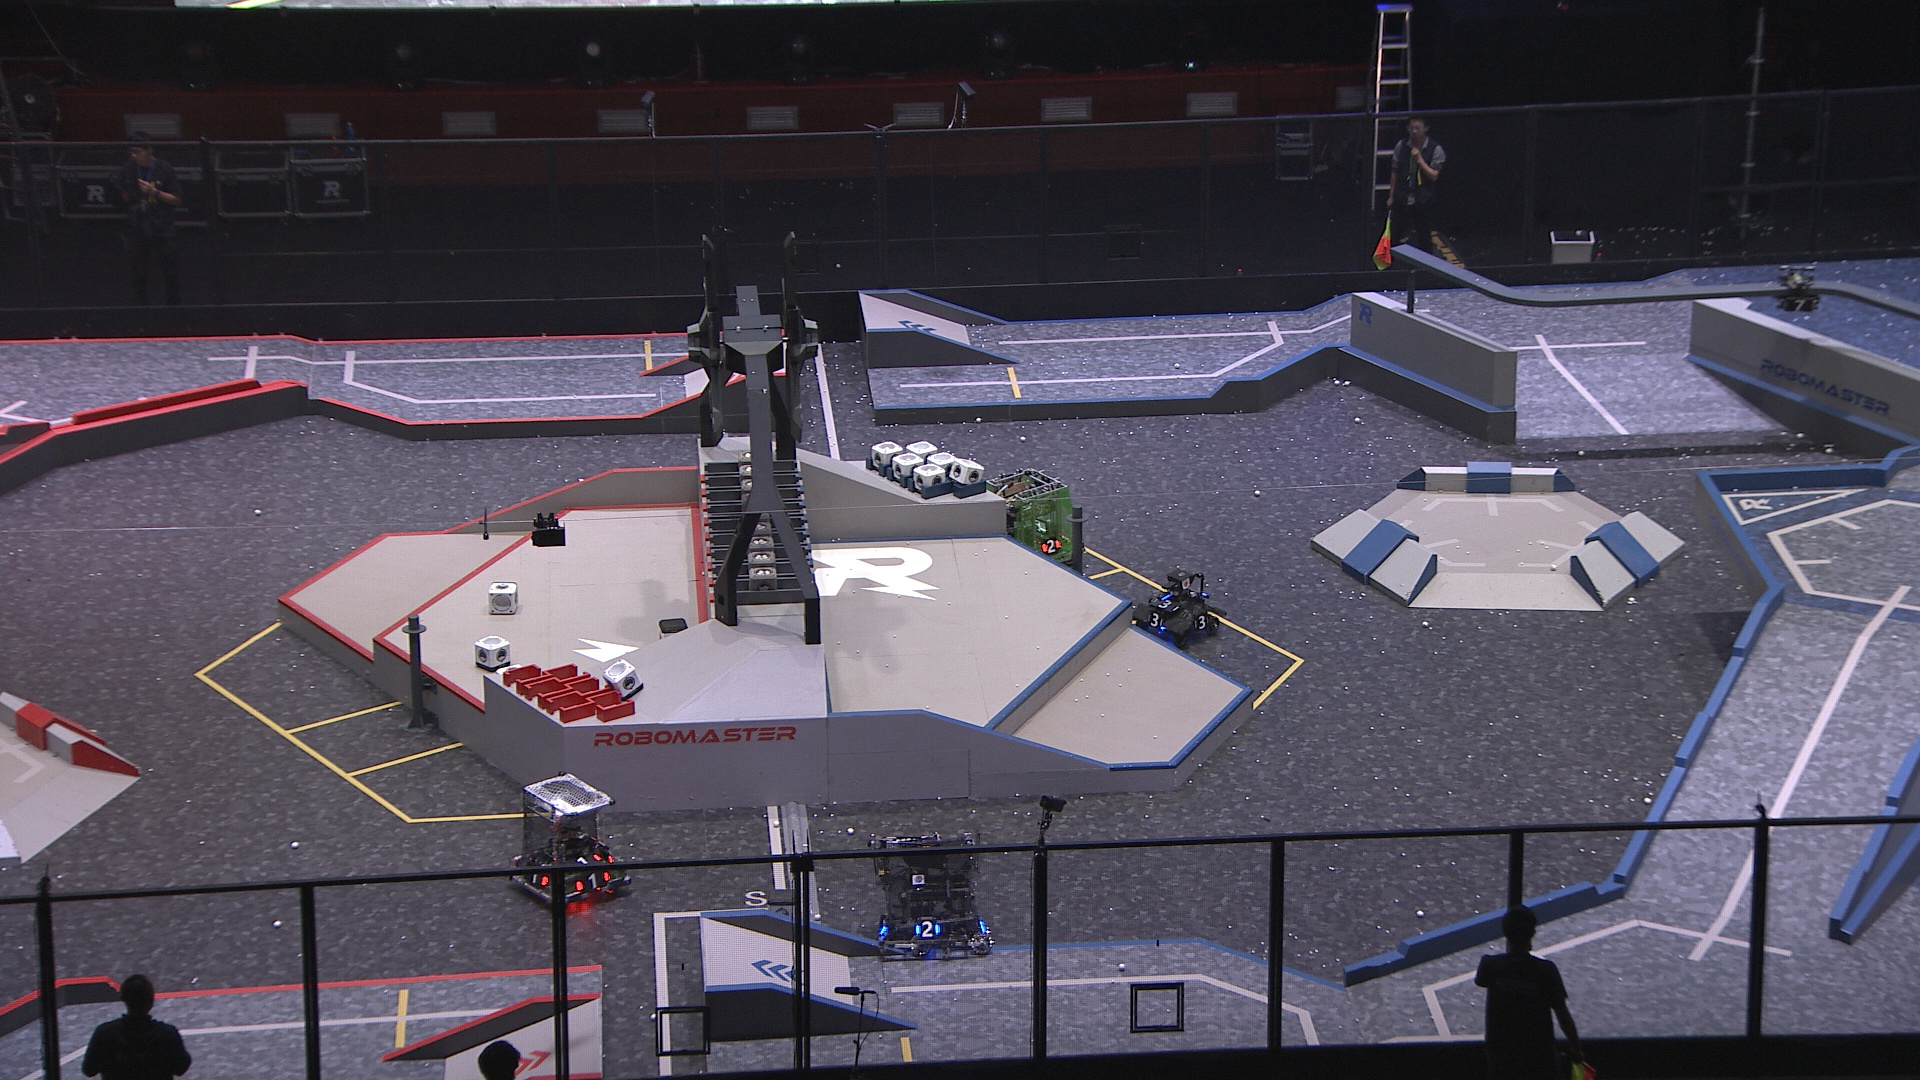armor: (571, 868, 612, 891), (915, 920, 942, 943), (570, 851, 604, 868), (1038, 537, 1064, 555), (524, 870, 551, 887), (1153, 597, 1182, 613), (1780, 297, 1818, 309), (1189, 613, 1211, 632), (1149, 611, 1166, 628)
car: (866, 829, 997, 963), (505, 770, 629, 910), (977, 467, 1083, 570), (1127, 564, 1222, 651)
watcher: (1774, 262, 1821, 314)
